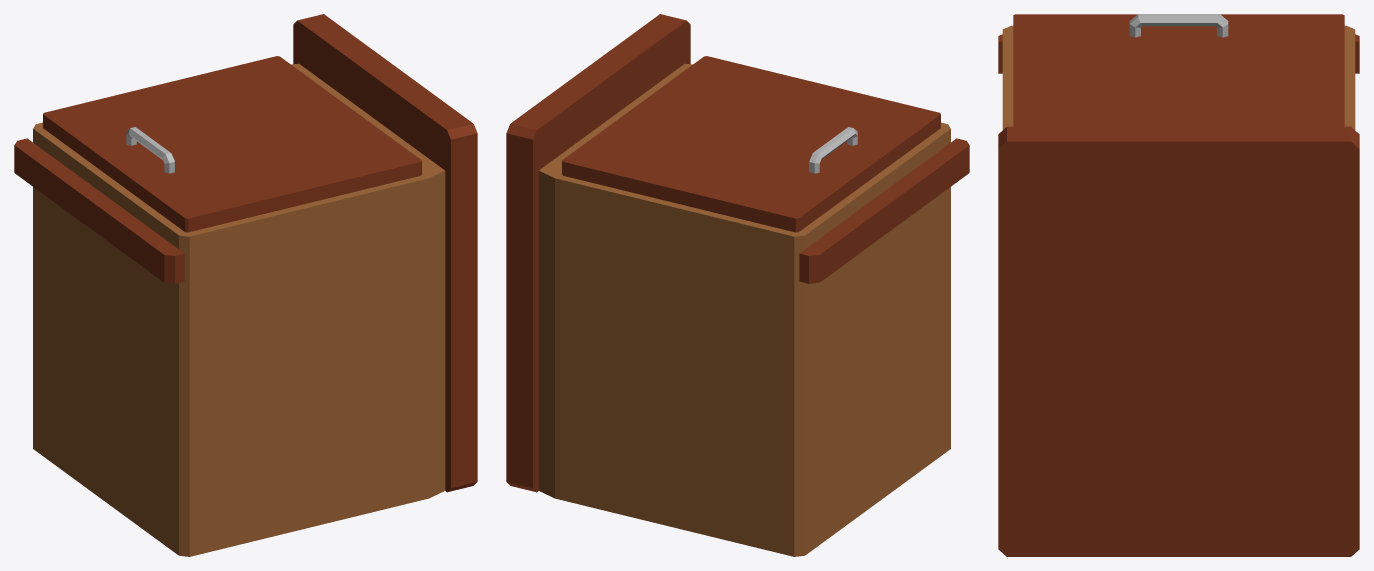
Rendered from Container_Counter.fbx.
The picture shows the model from 3 angles, left to right: view 1: azimuth 30°, elevation 25°; view 2: azimuth 150°, elevation 25°; view 3: azimuth 270°, elevation 25°; orthographic projection. The views are drawn at different scales.
Parts seen in each view (by area): view 1: Counter_Base, Lid, Counter_Back, Counter_Front, Handle; view 2: Counter_Base, Lid, Counter_Back, Counter_Front, Handle; view 3: Counter_Back, Lid, Counter_Base, Handle.
Boxes of the visible parts, x1=… form: Counter_Base: x1=33, y1=63, x2=445, y2=556; Lid: x1=43, y1=56, x2=421, y2=232; Counter_Back: x1=293, y1=14, x2=477, y2=492; Counter_Front: x1=14, y1=138, x2=184, y2=283; Handle: x1=126, y1=127, x2=174, y2=173; Counter_Base: x1=538, y1=63, x2=950, y2=556; Lid: x1=562, y1=56, x2=940, y2=232; Counter_Back: x1=506, y1=14, x2=690, y2=492; Counter_Front: x1=799, y1=138, x2=969, y2=283; Handle: x1=809, y1=127, x2=857, y2=173; Counter_Back: x1=998, y1=126, x2=1359, y2=556; Lid: x1=1013, y1=14, x2=1344, y2=126; Counter_Base: x1=1002, y1=25, x2=1355, y2=129; Handle: x1=1129, y1=14, x2=1228, y2=37.
Bounding box in the file's own units: 1.16 × 1.3 × 1.02.
